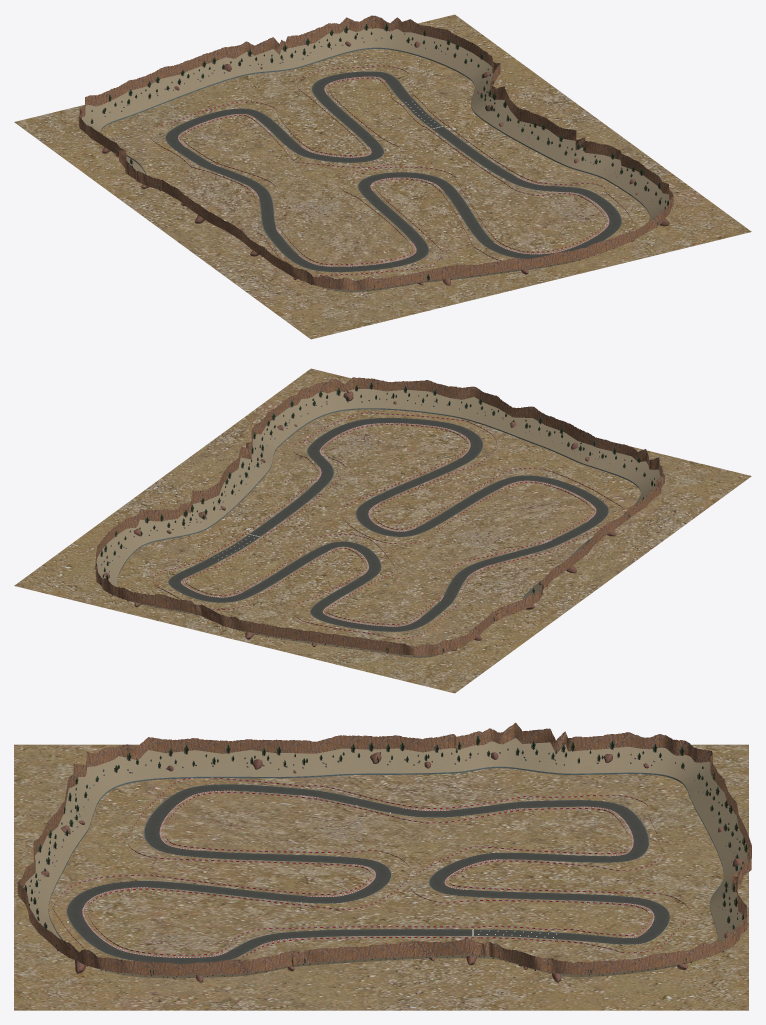
The picture shows the model from 3 angles, top to bottom: view 1: azimuth 30°, elevation 25°; view 2: azimuth 150°, elevation 25°; view 3: azimuth 270°, elevation 25°; orthographic projection. The views are drawn at different scales.
Parts seen in each view (by area): view 1: Plane, RaceTrack_Wall_00, RaceTrack_Main_00, RaceTrack_Curbs_00; view 2: Plane, RaceTrack_Wall_00, RaceTrack_Main_00, RaceTrack_Curbs_00; view 3: Plane, RaceTrack_Wall_00, RaceTrack_Main_00, RaceTrack_Curbs_00, RaceTrack_LeftRails_05, RaceTrack_LeftRails_00, RaceTrack_LeftRails_08, RaceTrack_LeftRails_02, RaceTrack_LeftRails_03, RaceTrack_LeftRails_07, RaceTrack_LeftRails_06, RaceTrack_LeftRails_09 (+4 smaller).
Part boxes in pixels (x1,y1,x2,y2): Plane: [14, 14, 751, 339]; RaceTrack_Wall_00: [78, 15, 673, 292]; RaceTrack_Main_00: [165, 71, 622, 272]; RaceTrack_Curbs_00: [178, 76, 609, 266]; Plane: [14, 368, 751, 693]; RaceTrack_Wall_00: [95, 377, 664, 657]; RaceTrack_Main_00: [168, 417, 609, 631]; RaceTrack_Curbs_00: [180, 423, 596, 626]; Plane: [14, 744, 748, 1010]; RaceTrack_Wall_00: [17, 722, 751, 978]; RaceTrack_Main_00: [66, 784, 670, 964]; RaceTrack_Curbs_00: [82, 790, 654, 957]; RaceTrack_LeftRails_05: [181, 777, 437, 823]; RaceTrack_LeftRails_00: [229, 926, 480, 954]; RaceTrack_LeftRails_08: [409, 867, 668, 908]; RaceTrack_LeftRails_02: [54, 874, 302, 907]; RaceTrack_LeftRails_03: [264, 850, 410, 909]; RaceTrack_LeftRails_07: [427, 834, 660, 874]; RaceTrack_LeftRails_06: [436, 795, 657, 834]; RaceTrack_LeftRails_09: [480, 895, 689, 953].
Size of the model in its own units: 600 by 36.44 by 703.
